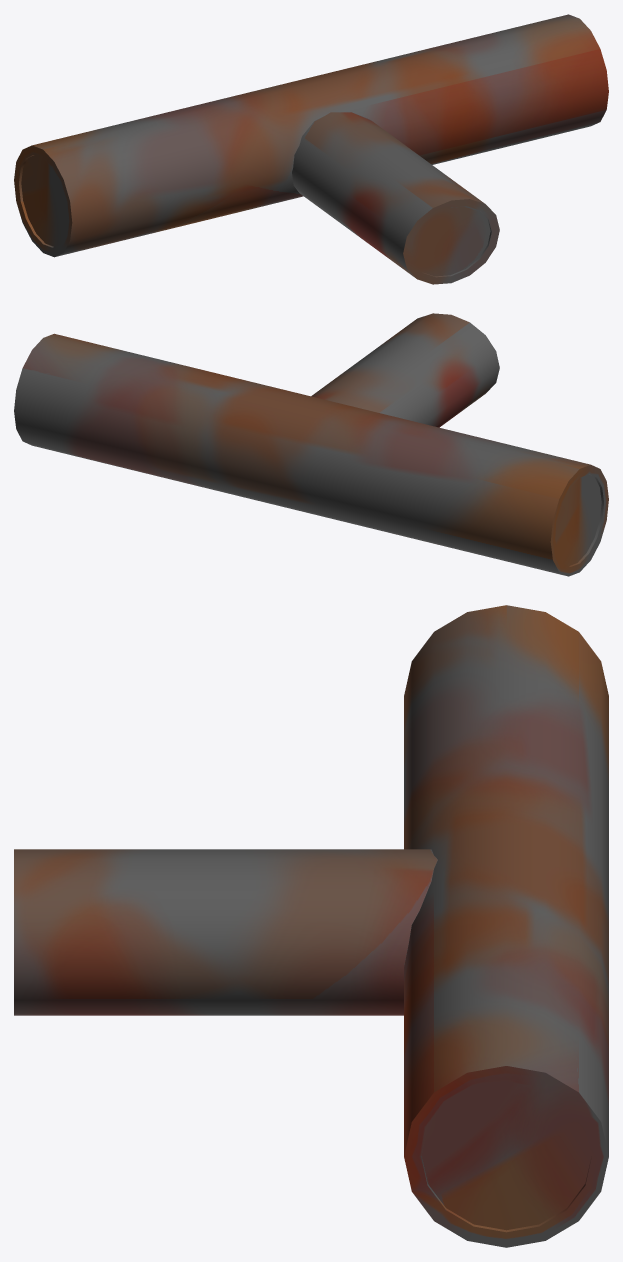
Rendered from pipe 2.glb.
The picture shows the model from 3 angles, top to bottom: view 1: azimuth 30°, elevation 25°; view 2: azimuth 150°, elevation 25°; view 3: azimuth 270°, elevation 25°; orthographic projection. The views are drawn at different scales.
Parts seen in each view (by area): view 1: Cylinder; view 2: Cylinder; view 3: Cylinder.
Part boxes in pixels (x1,y1,x2,y2): Cylinder: (14, 14, 608, 284); Cylinder: (14, 313, 608, 576); Cylinder: (14, 605, 608, 1247).
Bounding box in the file's own units: 1.17 × 0.2148 × 0.6363.
1 material, 1 textured.
